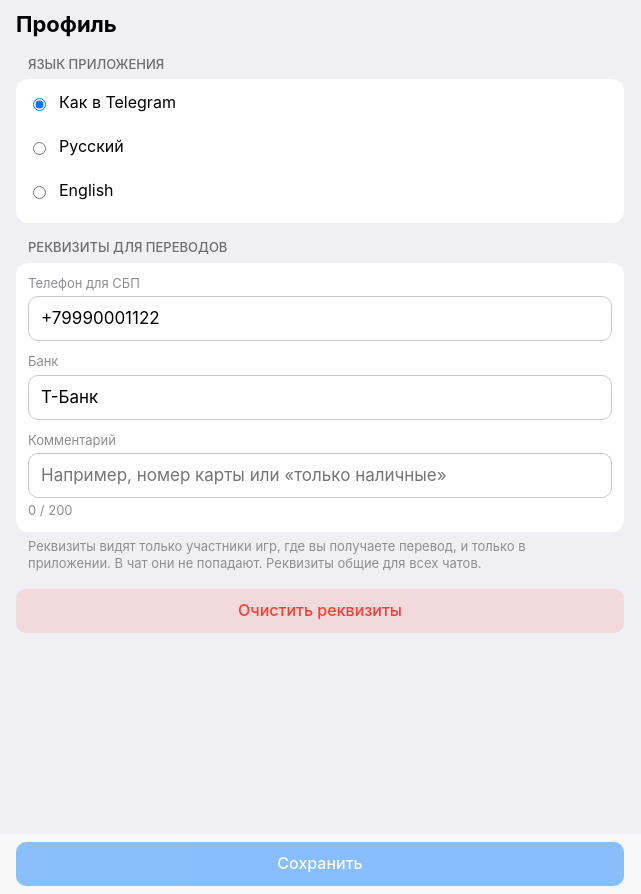
ProfilePage › saves payment details; an empty field is cleared
Clear the field labelled "Телефон для СБП" at (320, 319), box [28,296,612,341]
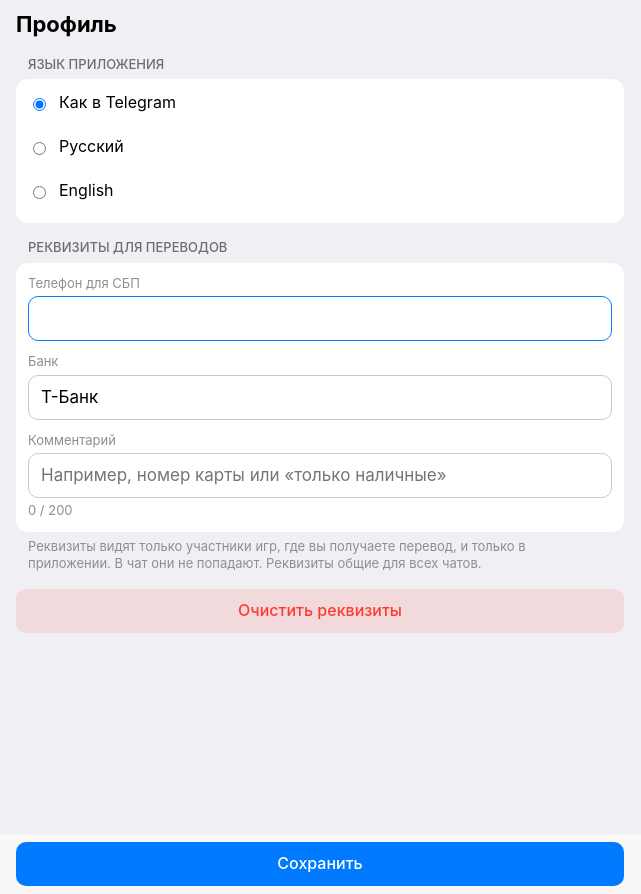
Type "только наличные" into the field labelled "Комментарий".
click(320, 476); type("только наличные")  # box [28,453,612,498]
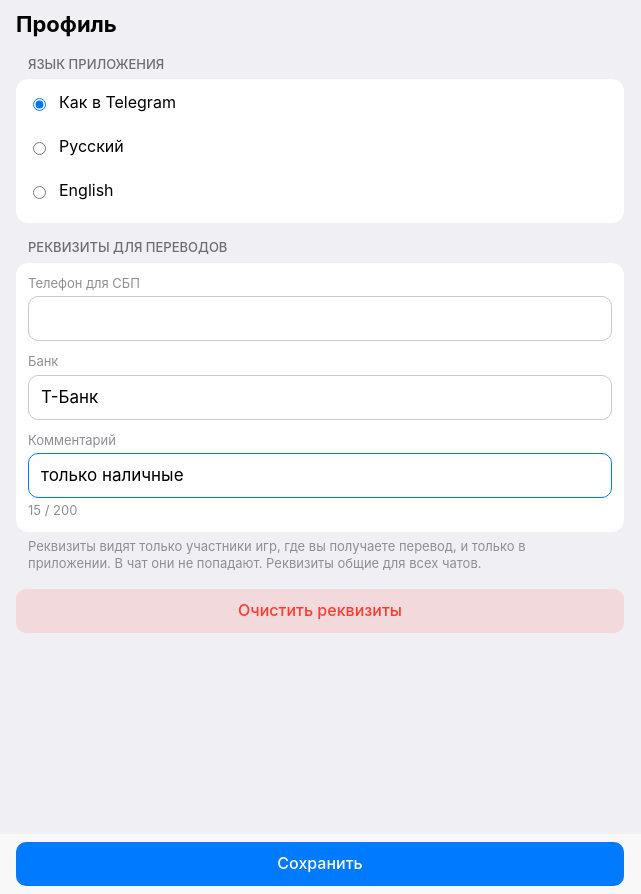
Expected: the text "15 / 200" is shown, [28,502,77,518]
Click the button "Сохранить".
click(320, 864)  # box [16,842,624,886]
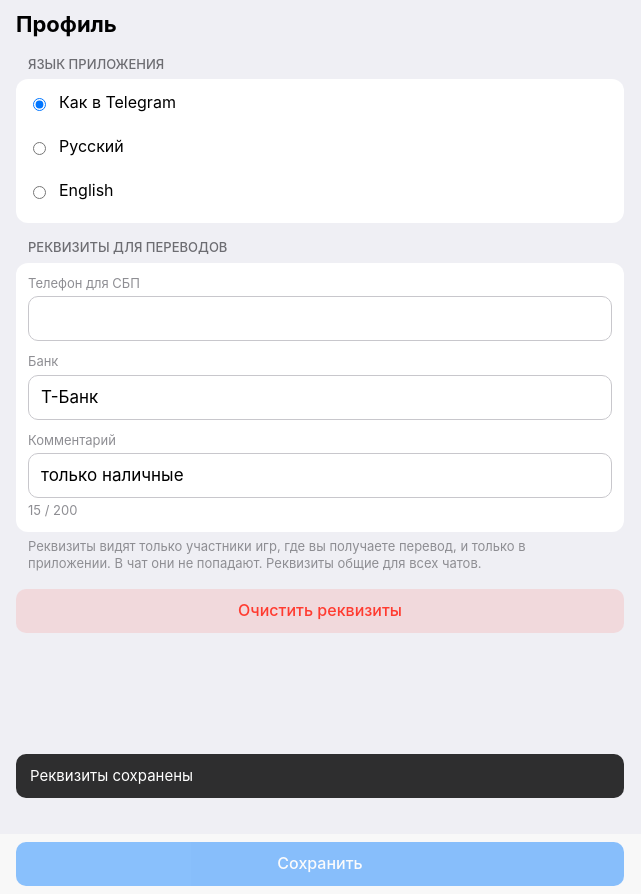
Expected: the text "только участники игр" is shown, [28,538,526,571]
Expected: the text "Реквизиты сохранены" is shown, [16,754,624,798]
Expected: the button "Сохранить" is disabled, [16,842,624,886]
